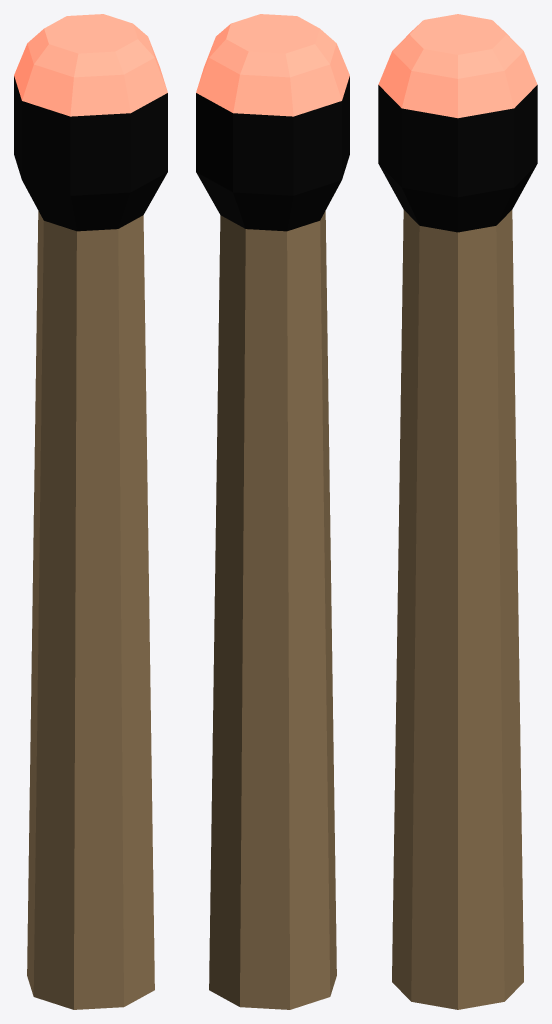
Rendered from lighter_Match (Maybe not use).fbx.
3 views of the same model, side by side, from view 1: azimuth 30°, elevation 25°; view 2: azimuth 150°, elevation 25°; view 3: azimuth 270°, elevation 25° (orthographic).
Visible parts, largest first — view 1: Cylinder; view 2: Cylinder; view 3: Cylinder.
Boxes of the visible parts, x1,y1,x2,y2 form: Cylinder: [14, 14, 167, 1009]; Cylinder: [196, 14, 349, 1009]; Cylinder: [378, 14, 537, 1009].
Bounding box in the file's own units: 55.52 × 365 × 55.52.
